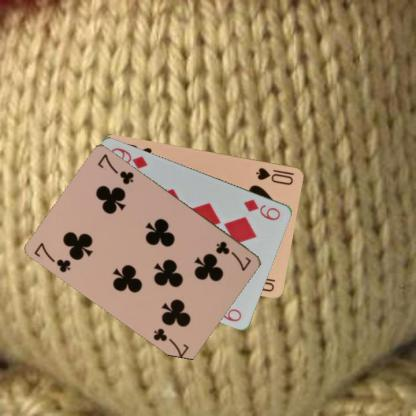10s: (253, 165, 296, 186)
7c: (213, 238, 253, 273), (32, 240, 72, 274)
9d: (241, 196, 282, 222)
